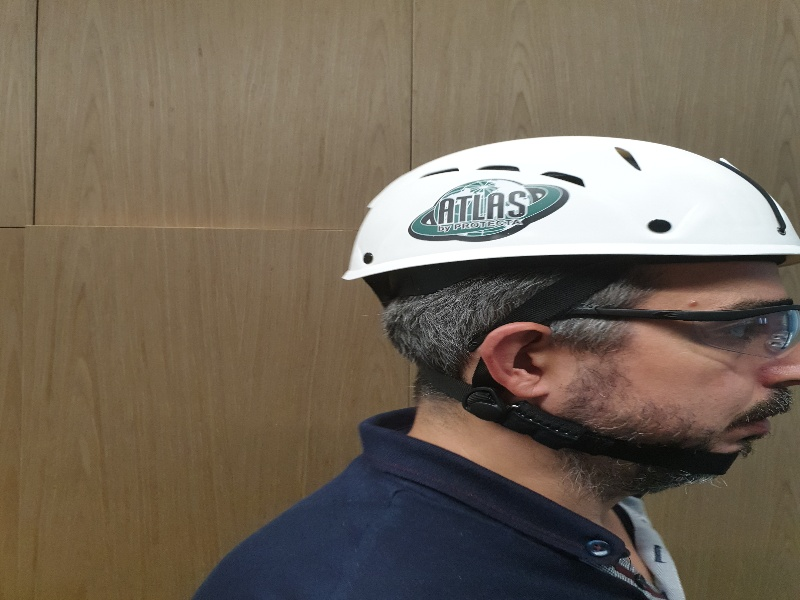Baret: (339, 133, 800, 279)
Gozluk: (493, 301, 800, 360)
